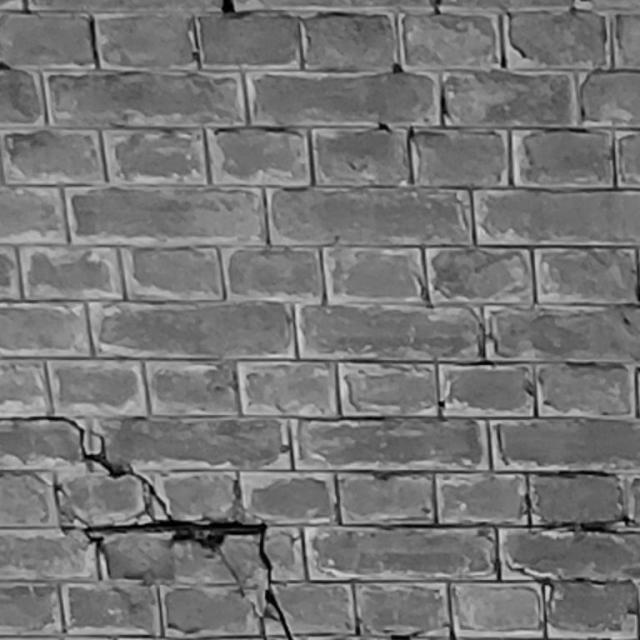crack: (1, 416, 290, 640)
